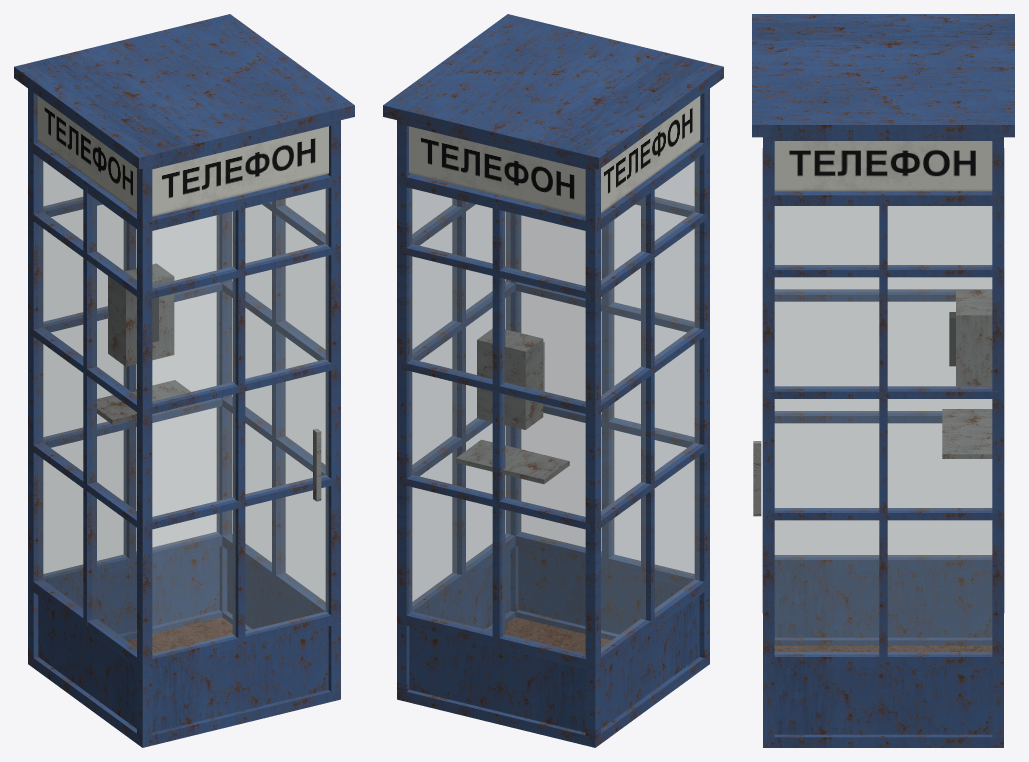
File: phone_booth_web.glb
3 renders of one model, left to right at view 1: azimuth 30°, elevation 25°; view 2: azimuth 150°, elevation 25°; view 3: azimuth 270°, elevation 25°, orthographic. The views are drawn at different scales.
Parts seen in each view (by area): view 1: PhoneBooth_Mesh; view 2: PhoneBooth_Mesh; view 3: PhoneBooth_Mesh.
Part boxes in pixels (x1=…): PhoneBooth_Mesh: x1=14, y1=14, x2=354, y2=747; PhoneBooth_Mesh: x1=383, y1=14, x2=723, y2=747; PhoneBooth_Mesh: x1=752, y1=14, x2=1014, y2=747.
Bounding box in the file's own units: 0.98 × 2.58 × 0.98.
Materials: 7 (5 with a texture image).
